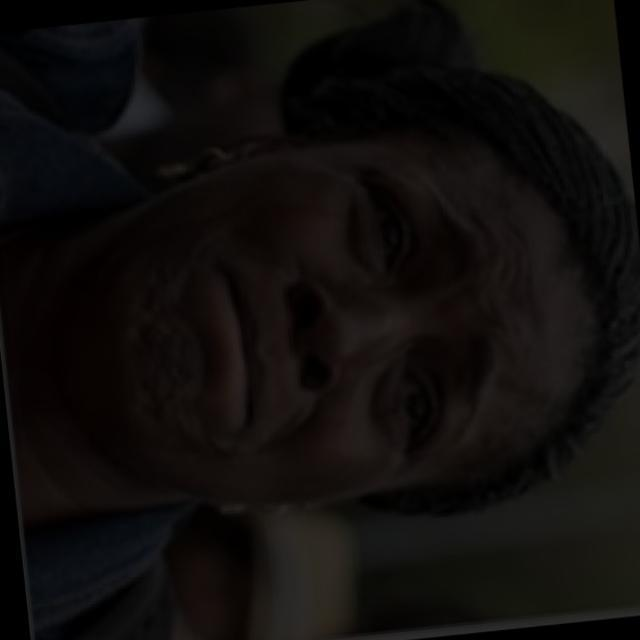Sad: (136, 133, 587, 504)
